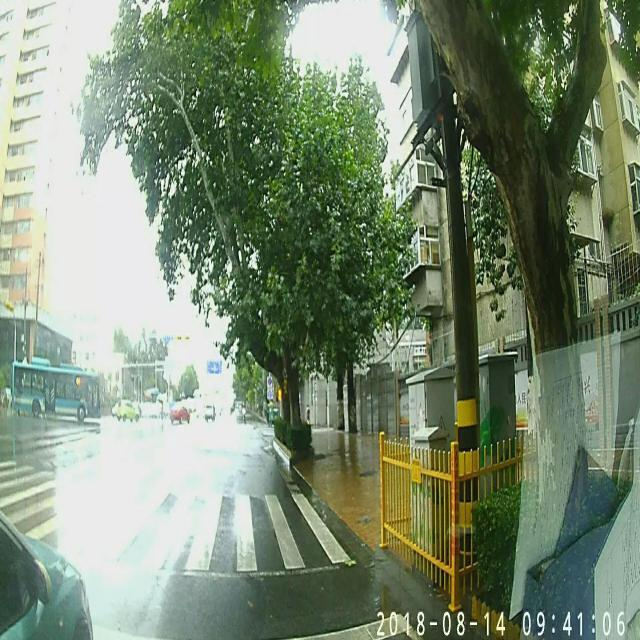car: (0, 508, 92, 640), (115, 396, 142, 422), (170, 405, 192, 423), (205, 403, 216, 421)
